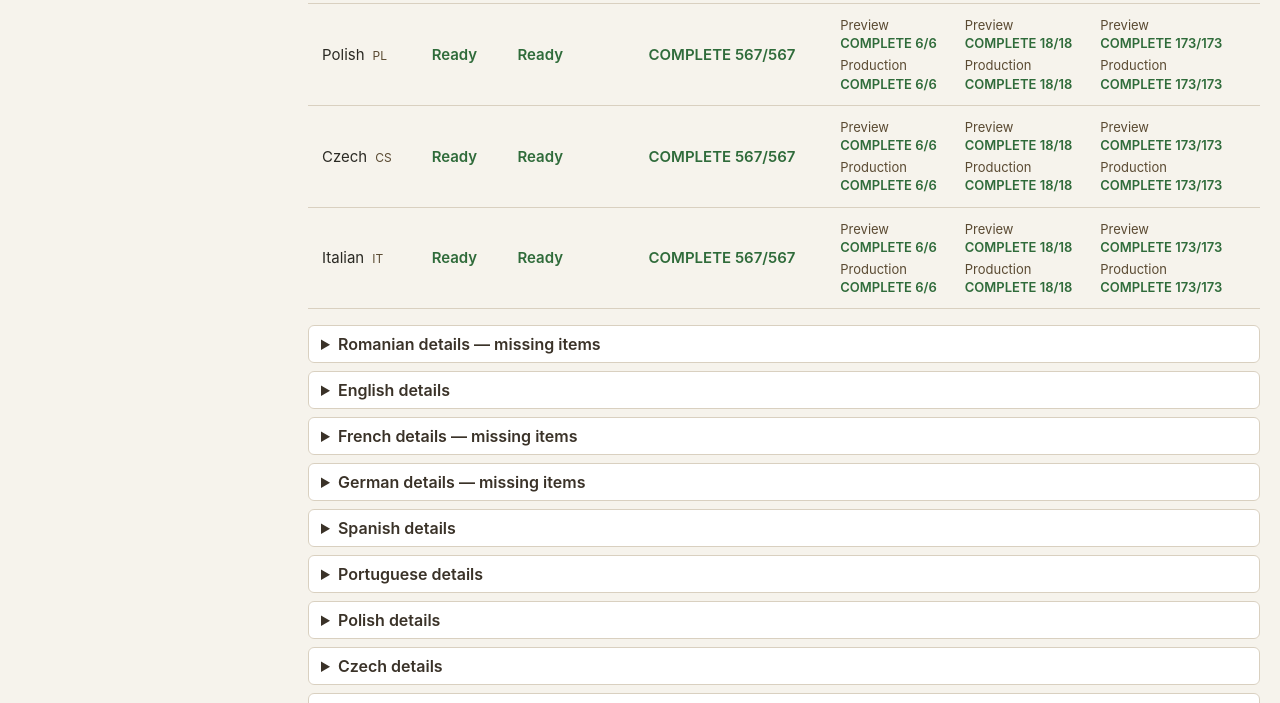
it: Admin Locale Readiness overview › shows complete counts and inspectable small missing lists
The image size is (1280, 703).
(page scrolled)
Click the heading "Romanian details — missing items". click: (469, 344)
box: x1=338 y1=334 x2=601 y2=354
(page scrolled)
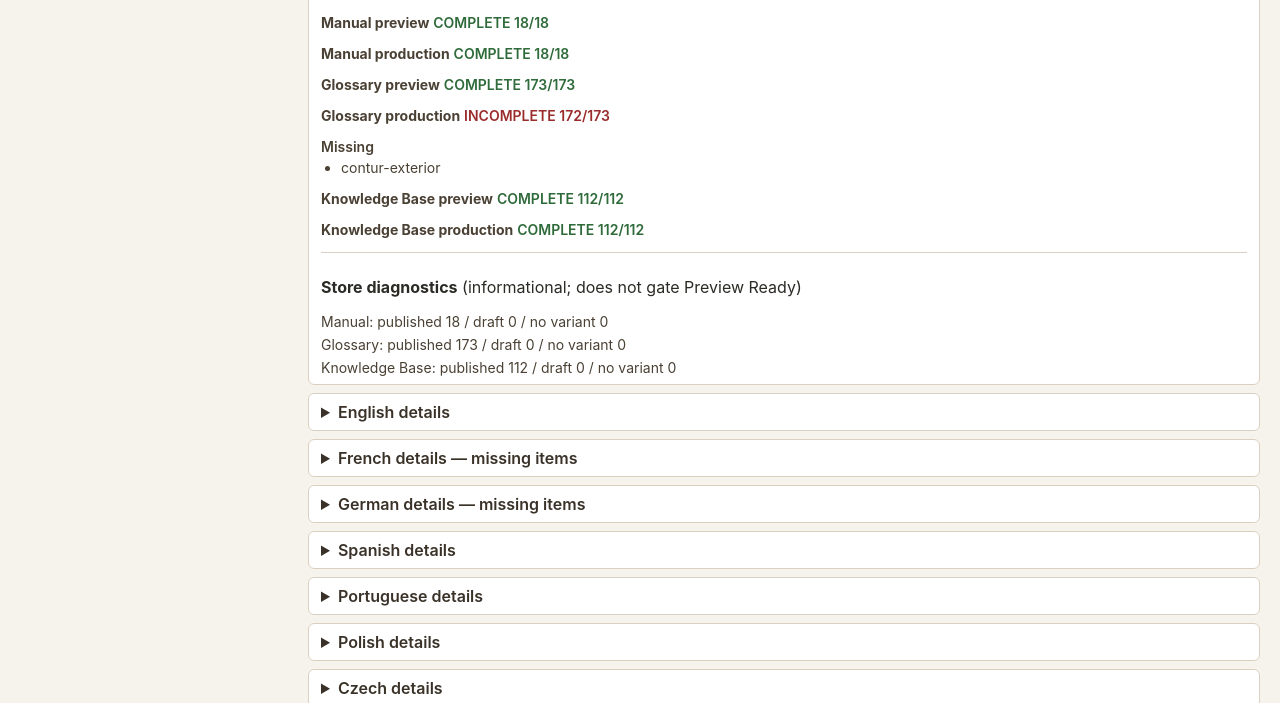
Check: the text "Store diagnostics" is shown, box x1=321 y1=277 x2=458 y2=297
Check: the text "Glossary: published 173 / draft 0 / no variant 0" is shown, box x1=321 y1=336 x2=626 y2=353
